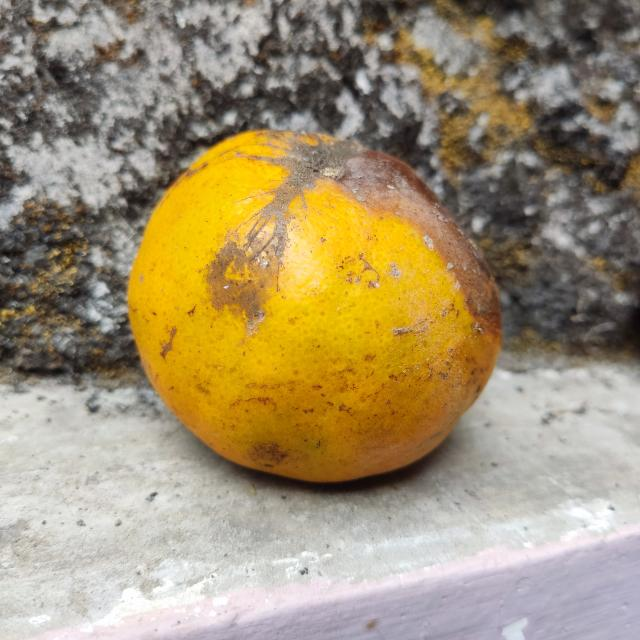orange: (131, 126, 499, 478)
